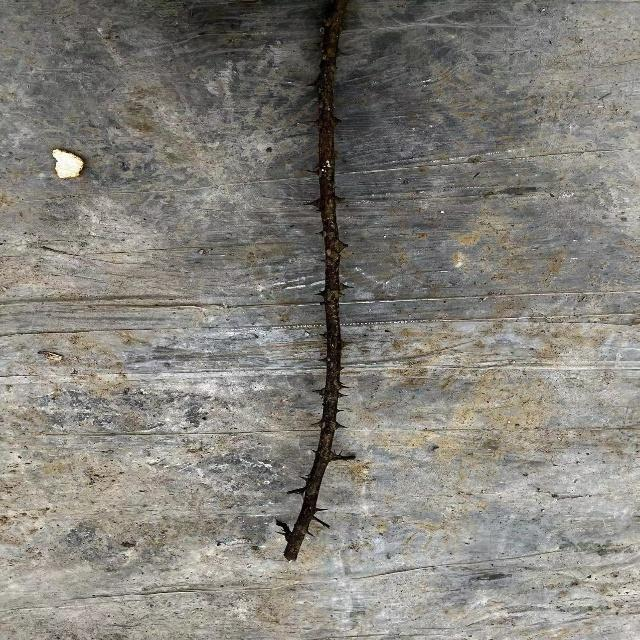branch: (283, 0, 347, 562)
